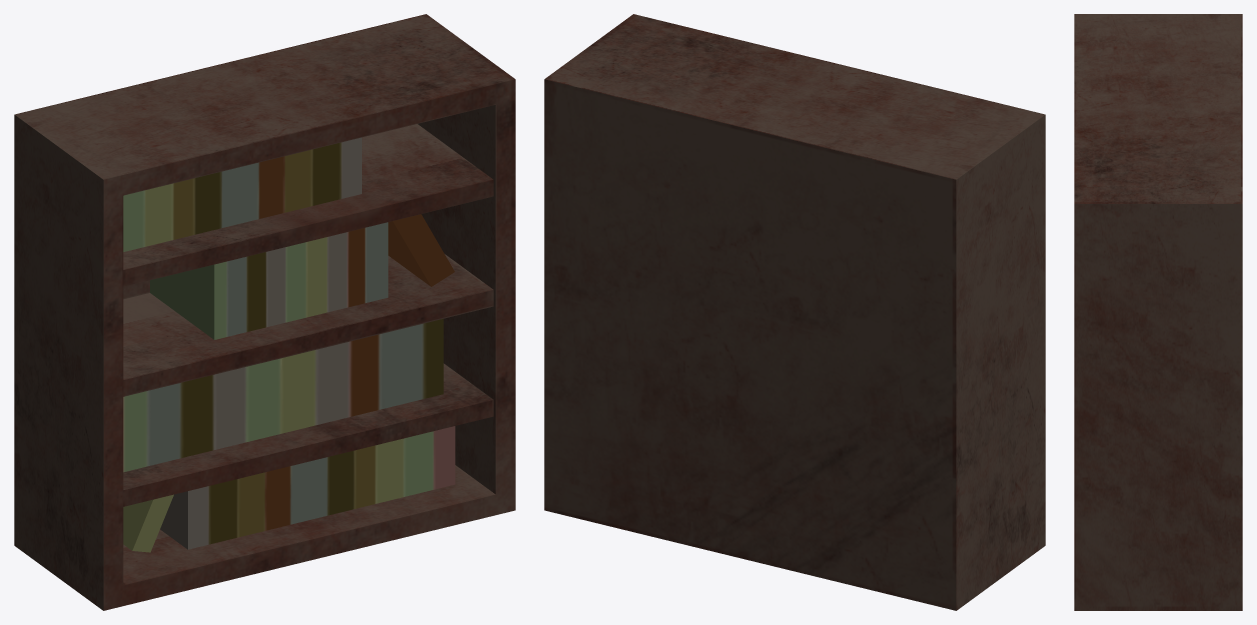
Rendered from estante.glb.
The picture shows the model from 3 angles, left to right: view 1: azimuth 30°, elevation 25°; view 2: azimuth 150°, elevation 25°; view 3: azimuth 270°, elevation 25°; orthographic projection. The views are drawn at different scales.
Parts seen in each view (by area): view 1: Cube.010; view 2: Cube.010; view 3: Cube.010.
Part boxes in pixels (x1,y1,x2,y2): Cube.010: (14, 14, 515, 610); Cube.010: (544, 14, 1045, 610); Cube.010: (1074, 14, 1242, 610).
Size of the model in its own units: 2 by 2 by 0.7494.
Materials: 2 (2 with a texture image).
